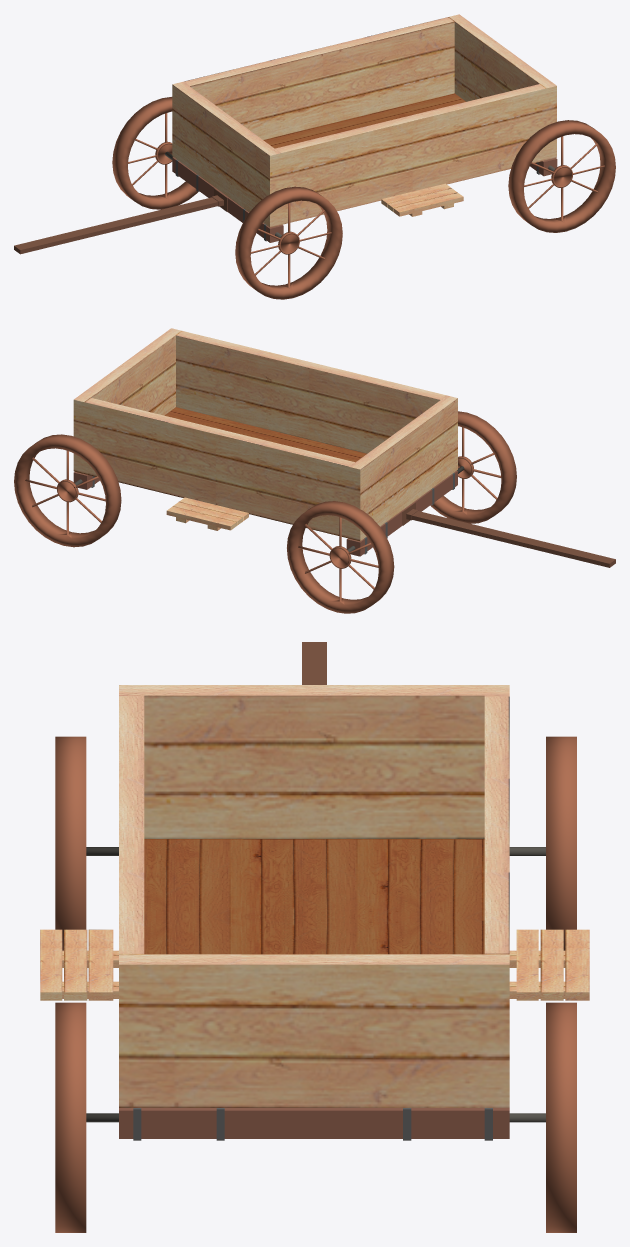
File: Cart.fbx
The picture shows the model from 3 angles, top to bottom: view 1: azimuth 30°, elevation 25°; view 2: azimuth 150°, elevation 25°; view 3: azimuth 270°, elevation 25°; orthographic projection. The views are drawn at different scales.
Parts seen in each view (by area): view 1: Cart; view 2: Cart; view 3: Cart.
Boxes of the visible parts, x1=… form: Cart: x1=14, y1=14, x2=615, y2=299; Cart: x1=14, y1=328, x2=615, y2=613; Cart: x1=40, y1=642, x2=589, y2=1232.
Size of the model in its own units: 499 by 118 by 223.
